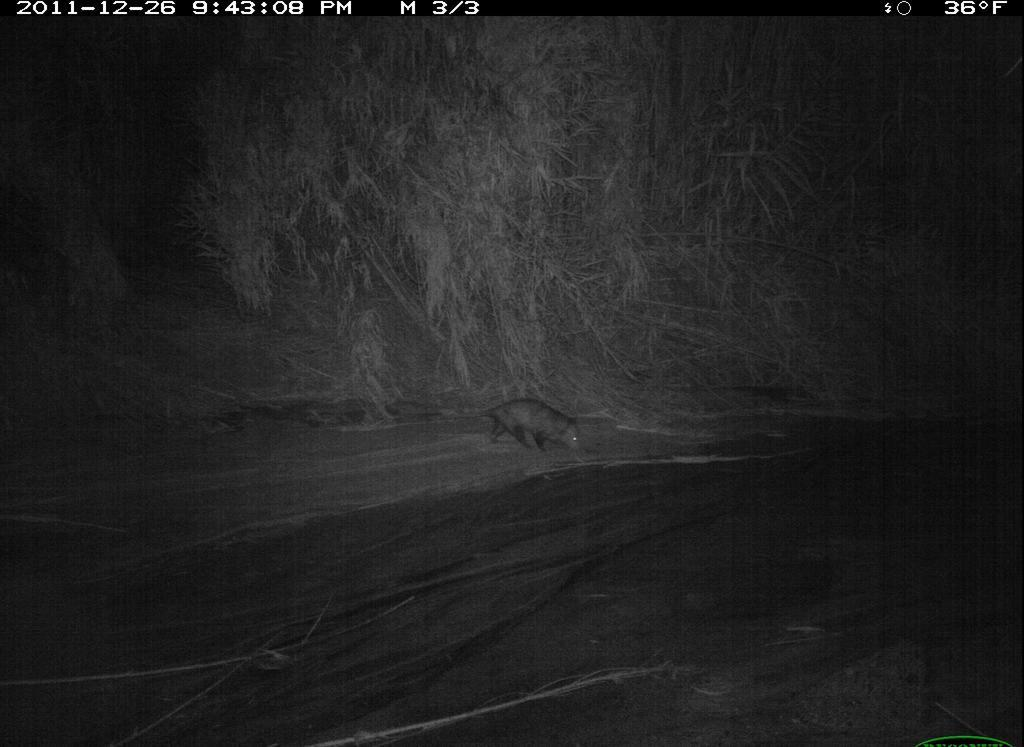opossum: (440, 400, 588, 463)
